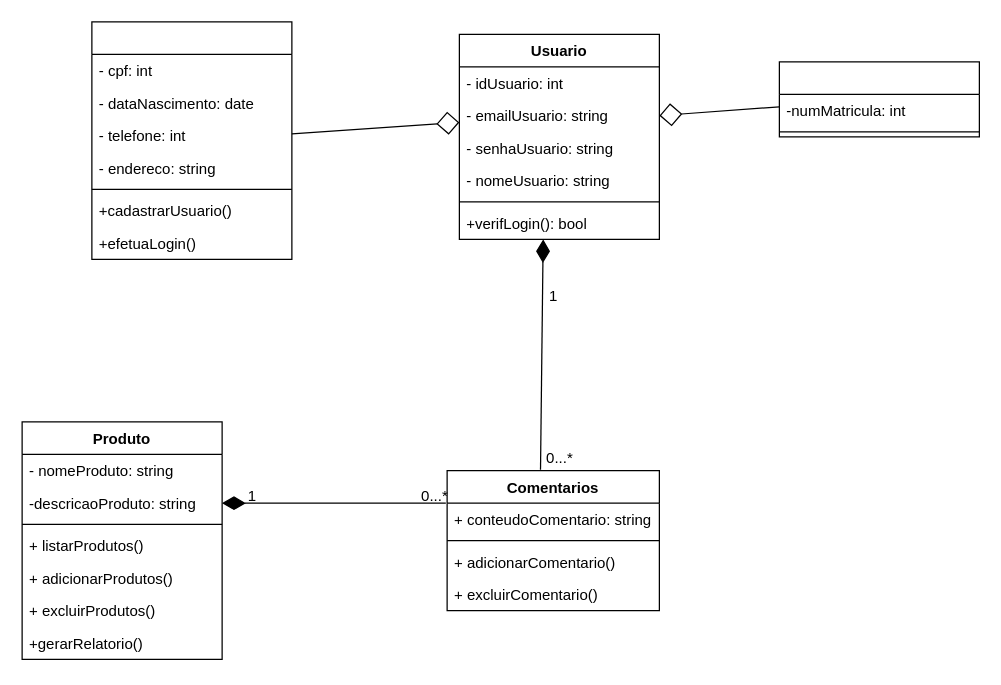
The diagram is 1001 pixels wide and 685 high, and some of its shapes have lost their labels. The box of each missing label's shape, as (x1, y1, x2, y2) in pixels:
UsuarioAdministrador: (778, 61, 979, 137)
UsuarioComum: (91, 21, 292, 259)
